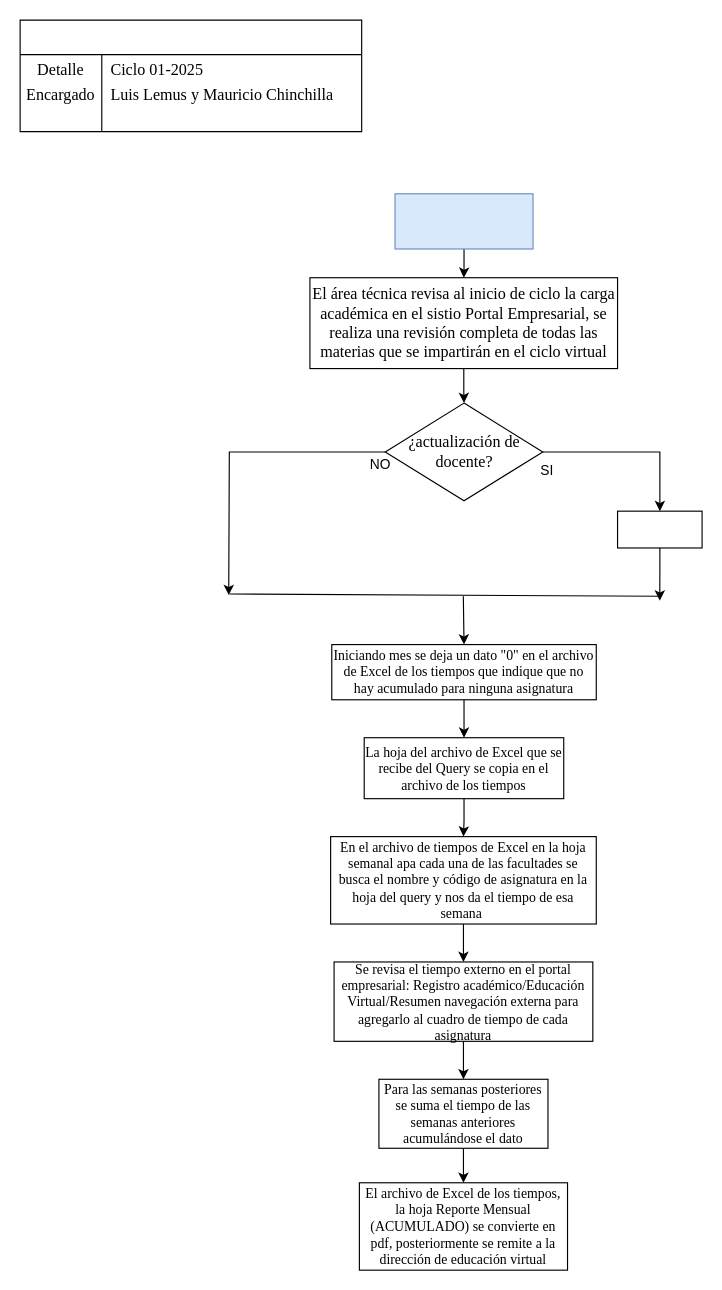
The diagram is 722 pixels wide and 1290 high, and some of its shapes have lost their labels. The shapes that lost their labels are listed below. From the top down, each one's box as (x1, y1, x2, y2) in pixels, then its label:
(19, 19, 362, 132): Elaboración de cuadro de tiempos de navegación
(394, 193, 533, 249): Crear el archivo de tiempos
(616, 510, 702, 548): Actualizar
